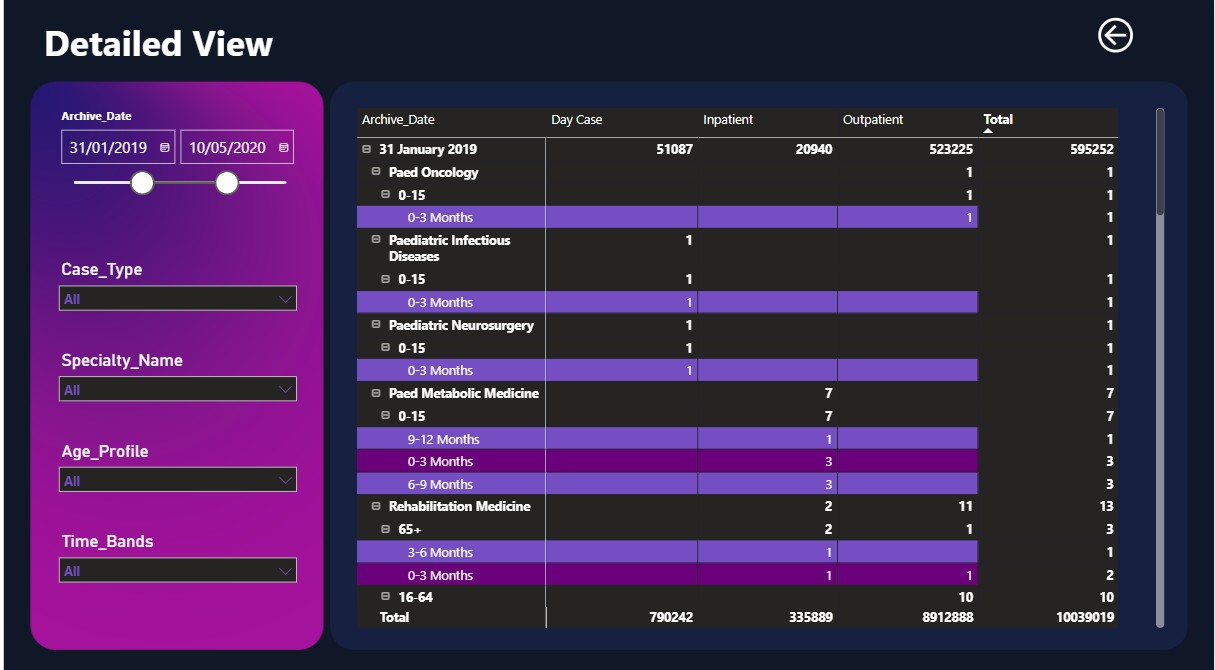

This screenshot's page, from the dashboard's own definition file:
{"tool":"powerbi","page":{"name":"Detail","canvas":[1280,720],"ordinal":1},"visuals":[{"type":"slicer","fields":{"Values":["All_Data.Case_Type"]},"box":[48,272,272,80],"z":0},{"type":"slicer","fields":{"Values":["All_Data.Specialty_Name"]},"box":[48,368,272,64],"z":1000},{"type":"slicer","fields":{"Values":["All_Data.Archive_Date"]},"box":[48,112,272,112],"z":2000},{"type":"textbox","box":[16,16,368,64],"z":3000},{"type":"slicer","fields":{"Values":["All_Data.Age_Profile"]},"box":[48,464,272,64],"z":4000},{"type":"slicer","fields":{"Values":["All_Data.Time_Bands"]},"box":[48,560,272,64],"z":5000},{"type":"pivotTable","fields":{"Rows":["All_Data.Archive_Date","All_Data.Specialty_Name","All_Data.Age_Profile","All_Data.Time_Bands"],"Columns":["All_Data.Case_Type"],"Values":["Sum(All_Data.Total)"]},"box":[368,112,864,560],"z":6000},{"type":"actionButton","box":[1152,16,96,48],"z":7000}]}

Visuals, with their boxes in screenshot pixels (x1, y1, x2, y2), scaled from the page's 1280x720 canvas onto the 1215x670 screenshot:
slicer - All_Data.Case_Type: 46:253:304:328
slicer - All_Data.Specialty_Name: 46:342:304:402
slicer - All_Data.Archive_Date: 46:104:304:208
textbox: 15:15:364:74
slicer - All_Data.Age_Profile: 46:432:304:491
slicer - All_Data.Time_Bands: 46:521:304:581
pivotTable - All_Data.Archive_Date x All_Data.Specialty_Name: 349:104:1169:625
actionButton: 1094:15:1185:60
